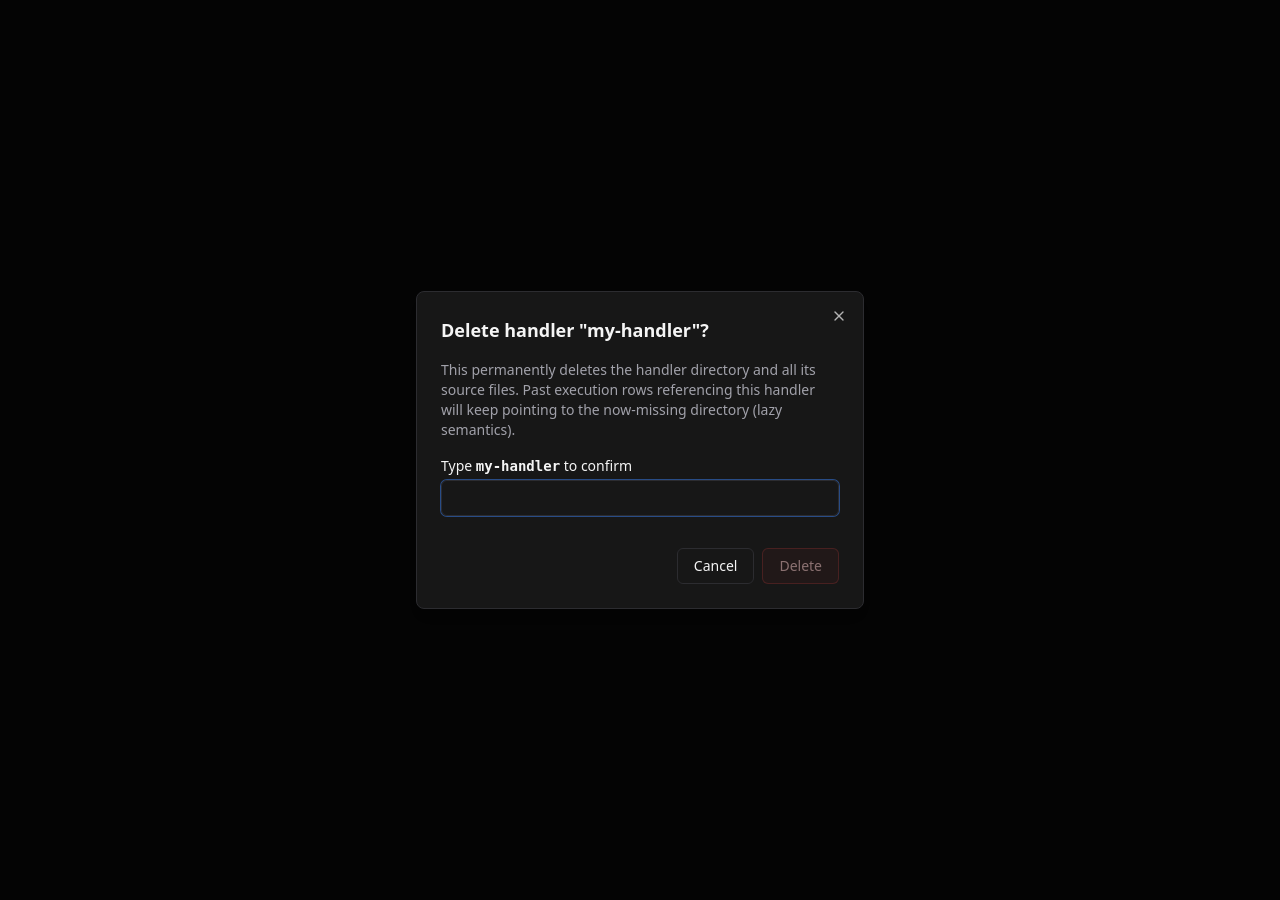
DeleteHandlerDialog › shows inline error banner on HandlerNotFound and keeps dialog open
Type "my-handler" into the field labelled "Type my-handler to confirm".
click(640, 498); type("my-handler")  # box [441, 480, 839, 516]
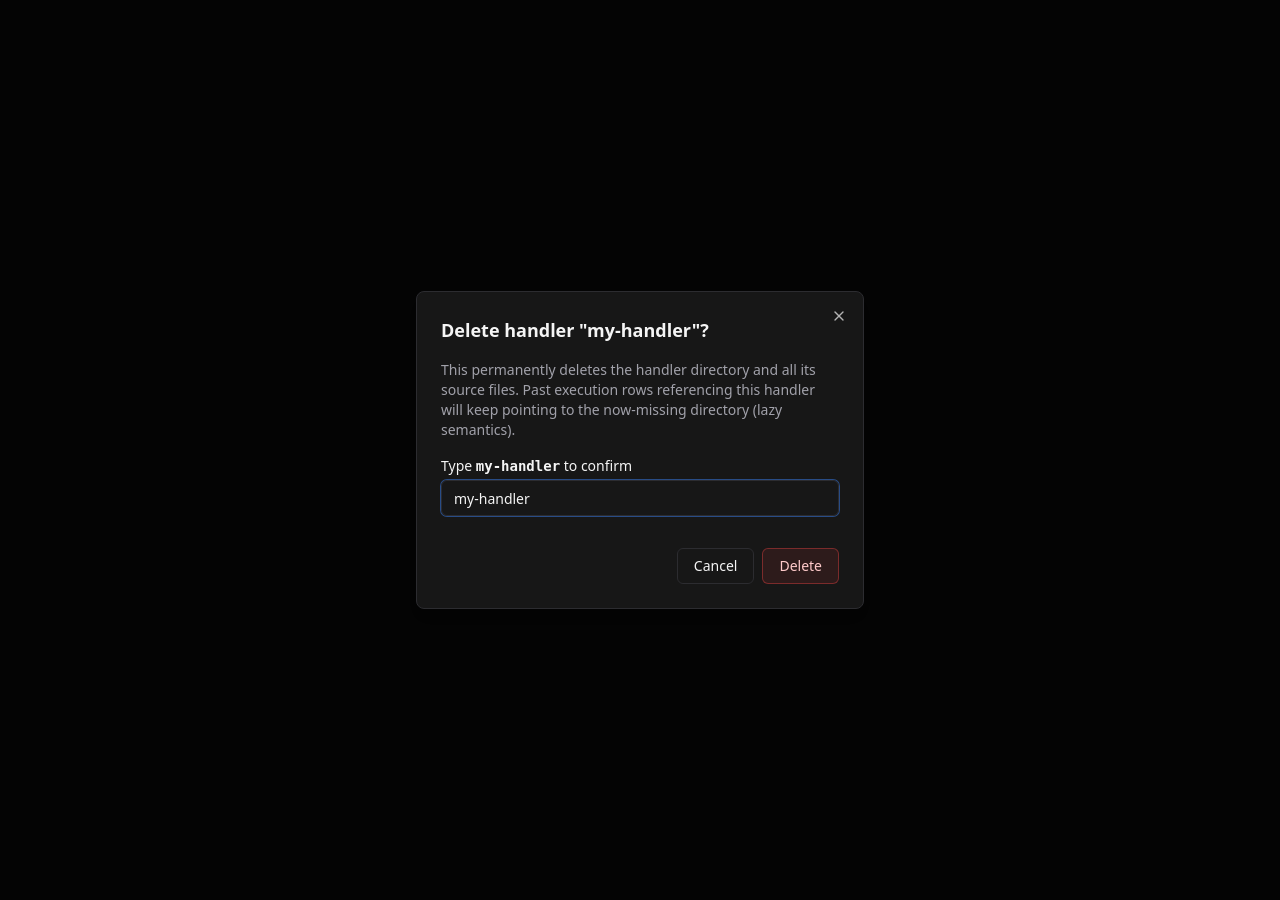
Click the button "Delete".
click(801, 566)  # box [762, 548, 839, 584]
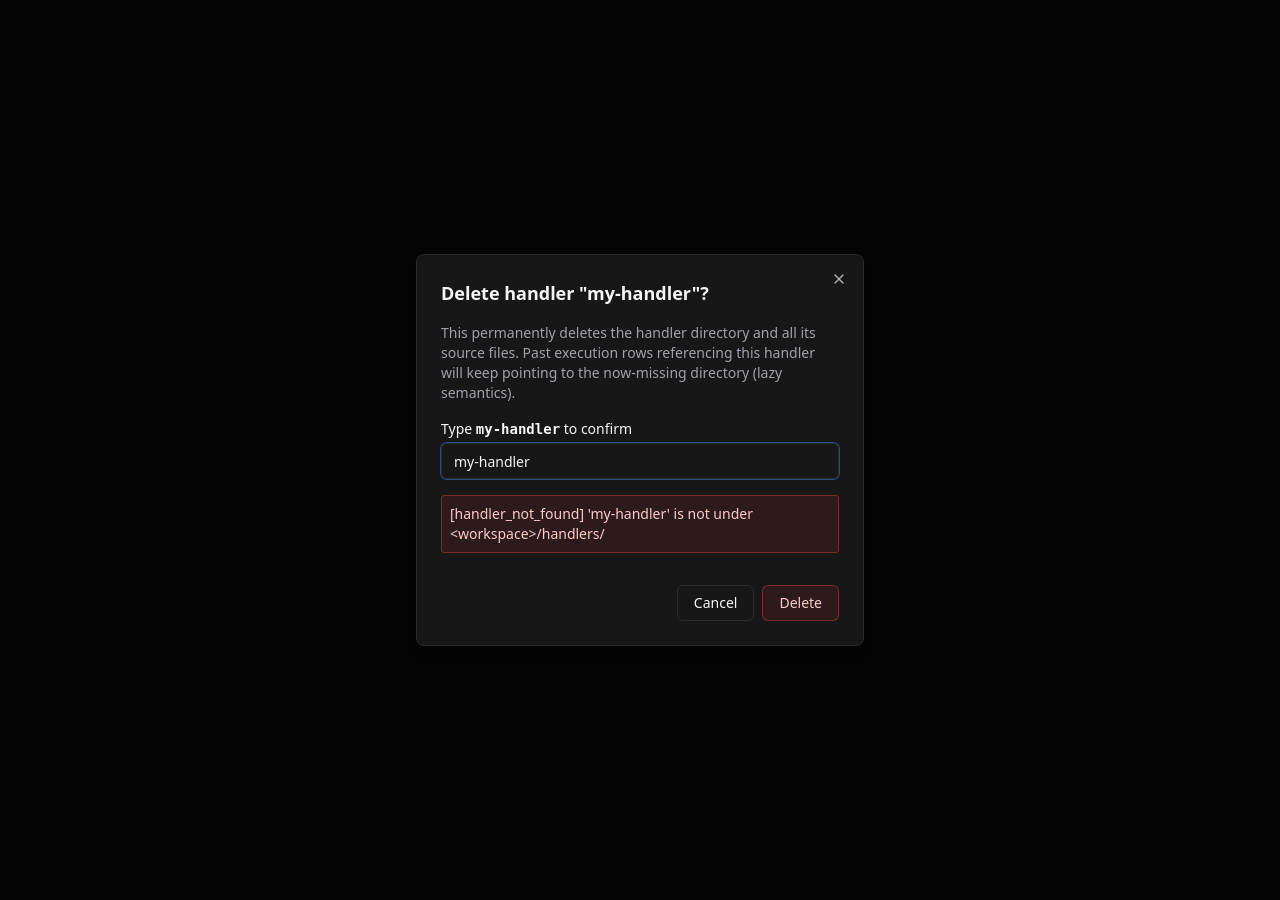
Now the text "[handler_not_found]" is shown, box [450, 504, 753, 543]
